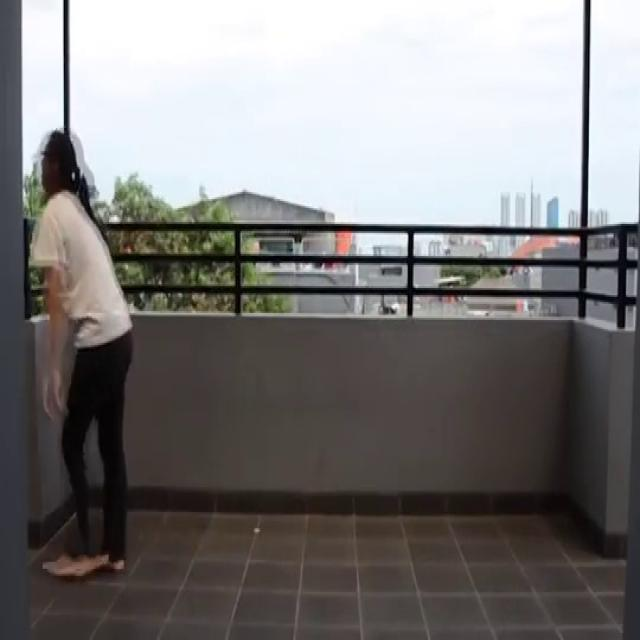normal: (22, 123, 140, 586)
